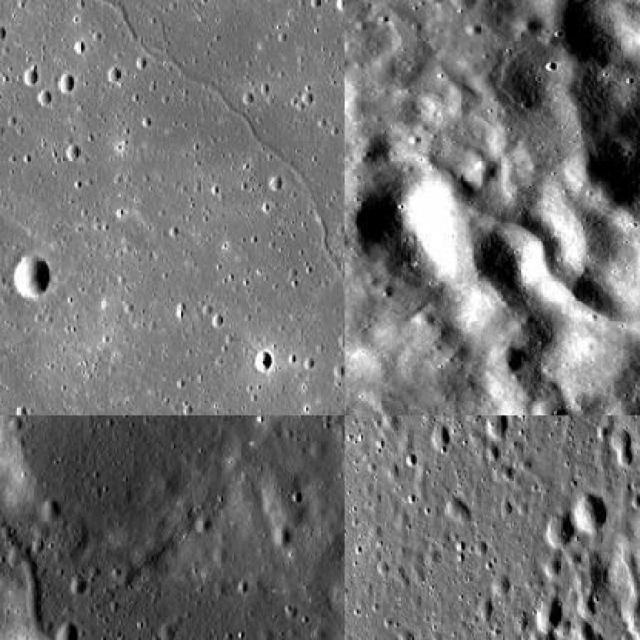rille: (0, 0, 343, 294), (423, 157, 639, 414), (0, 528, 317, 638), (434, 551, 638, 638)
